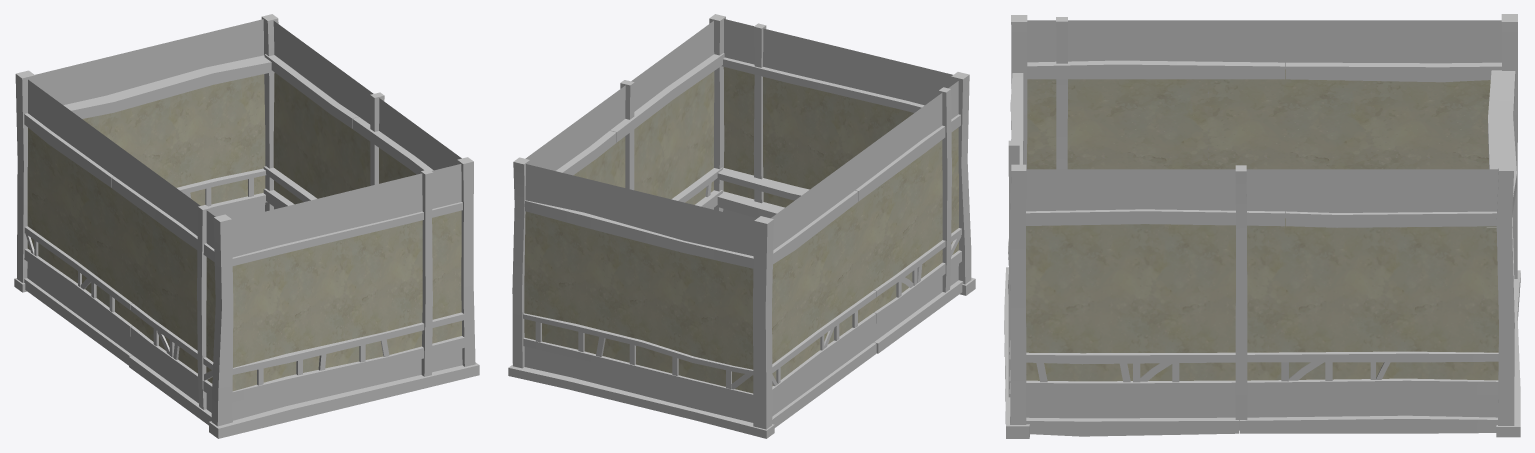
The model's file is A_Medium_BuildingBlock_B.fbx.
The picture shows the model from 3 angles, left to right: view 1: azimuth 30°, elevation 25°; view 2: azimuth 150°, elevation 25°; view 3: azimuth 270°, elevation 25°; orthographic projection. The views are drawn at different scales.
Parts seen in each view (by area): view 1: A_Medium_BuildingBlock_B_KitPart, A_Medium_BuildingBlock_B; view 2: A_Medium_BuildingBlock_B_KitPart, A_Medium_BuildingBlock_B; view 3: A_Medium_BuildingBlock_B_KitPart, A_Medium_BuildingBlock_B.
Boxes of the visible parts, bbox=[...] form: A_Medium_BuildingBlock_B_KitPart: bbox=[14, 14, 479, 438]; A_Medium_BuildingBlock_B: bbox=[27, 72, 461, 391]; A_Medium_BuildingBlock_B_KitPart: bbox=[508, 14, 975, 438]; A_Medium_BuildingBlock_B: bbox=[524, 67, 958, 393]; A_Medium_BuildingBlock_B_KitPart: bbox=[1004, 14, 1520, 438]; A_Medium_BuildingBlock_B: bbox=[1026, 69, 1498, 381].
Size of the model in its own units: 534 by 419 by 733.
